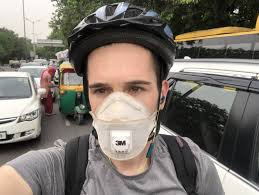mask: (77, 42, 168, 161)
